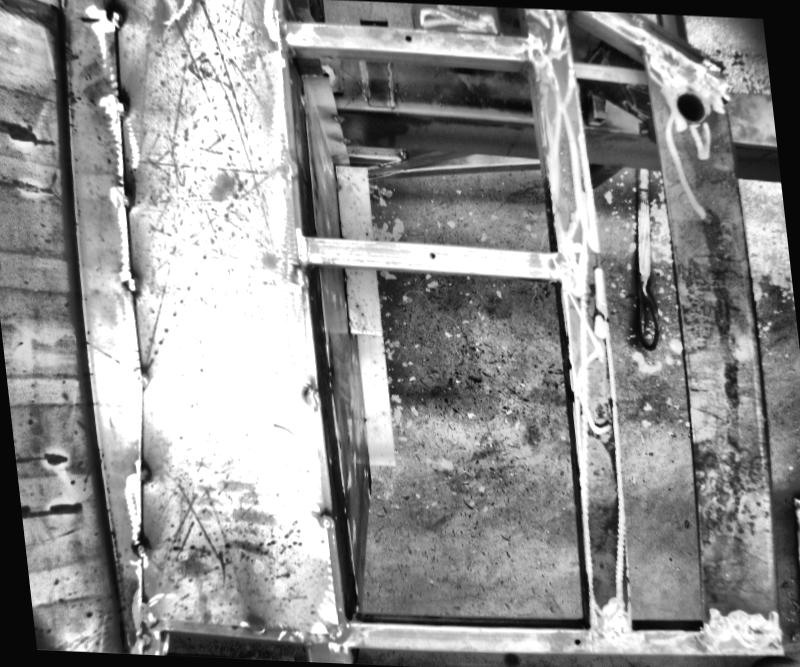hole: (670, 89, 707, 126), (428, 251, 436, 259), (573, 635, 581, 642), (404, 34, 412, 41)
